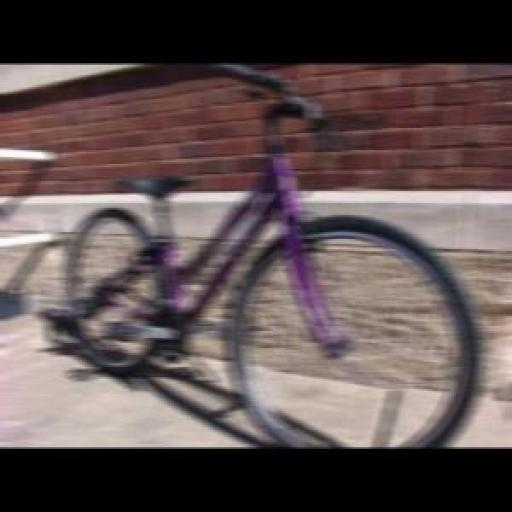bag: (67, 65, 479, 447)
